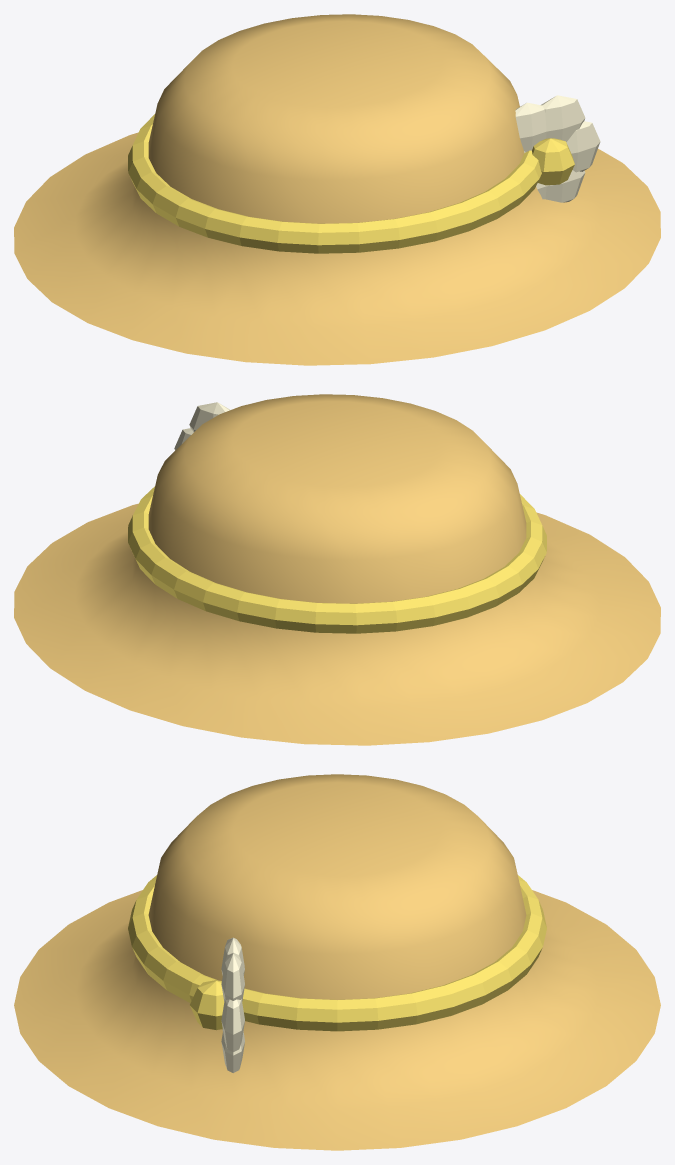
The picture shows the model from 3 angles, top to bottom: view 1: azimuth 30°, elevation 25°; view 2: azimuth 150°, elevation 25°; view 3: azimuth 270°, elevation 25°; orthographic projection. The views are drawn at different scales.
Visible parts, largest first — view 1: horse-hat, Torus, Sphere.006, Sphere.001, Sphere.002, Sphere, Sphere.005; view 2: horse-hat, Torus, Sphere.001; view 3: horse-hat, Torus, Sphere.006, Sphere, Sphere.001.
Part boxes in pixels (x1,y1,x2,y2): horse-hat: (14,14,660,365); Torus: (128,114,541,253); Sphere.006: (532,138,574,185); Sphere.001: (541,95,585,141); Sphere.002: (515,102,546,151); Sphere: (566,121,600,172); Sphere.005: (545,170,585,202); horse-hat: (14,394,660,745); Torus: (128,486,546,633); Sphere.001: (189,402,230,432); horse-hat: (14,774,660,1150); Torus: (128,875,546,1031); Sphere.006: (189,980,224,1030); Sphere: (221,999,244,1052); Sphere.001: (221,952,244,1001).
Bounding box in the file's own units: 0.284 × 0.08 × 0.267.
